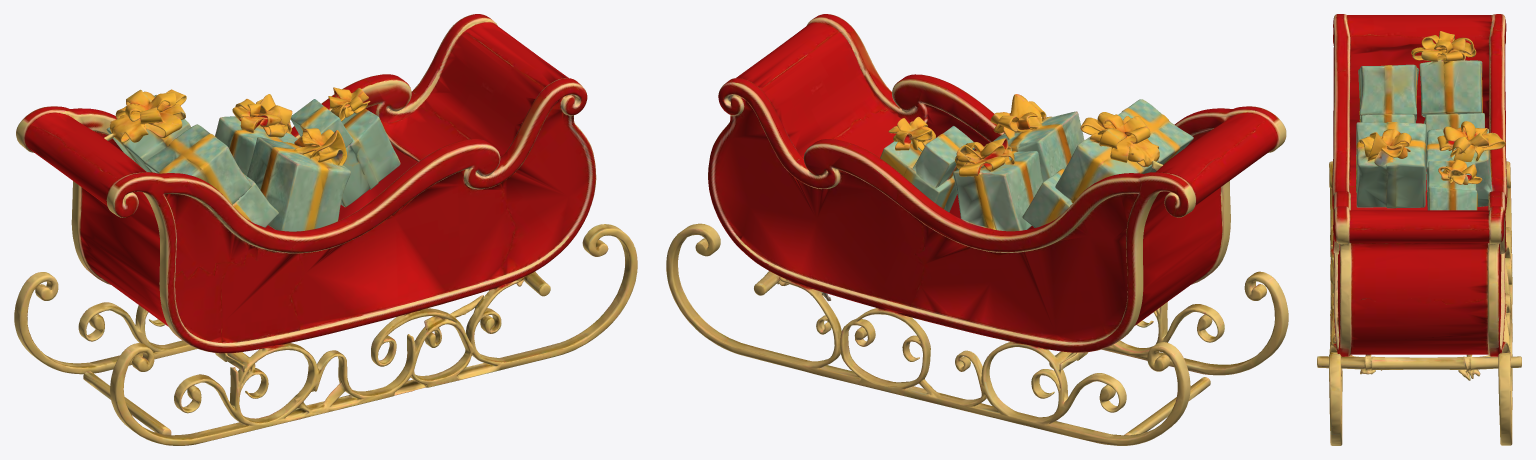
Rendered from traineau.glb.
The picture shows the model from 3 angles, left to right: view 1: azimuth 30°, elevation 25°; view 2: azimuth 150°, elevation 25°; view 3: azimuth 270°, elevation 25°; orthographic projection. The views are drawn at different scales.
Bounding box in the file's own units: 1.9 × 1.03 × 0.7407.
Materials: 1 (1 with a texture image).
